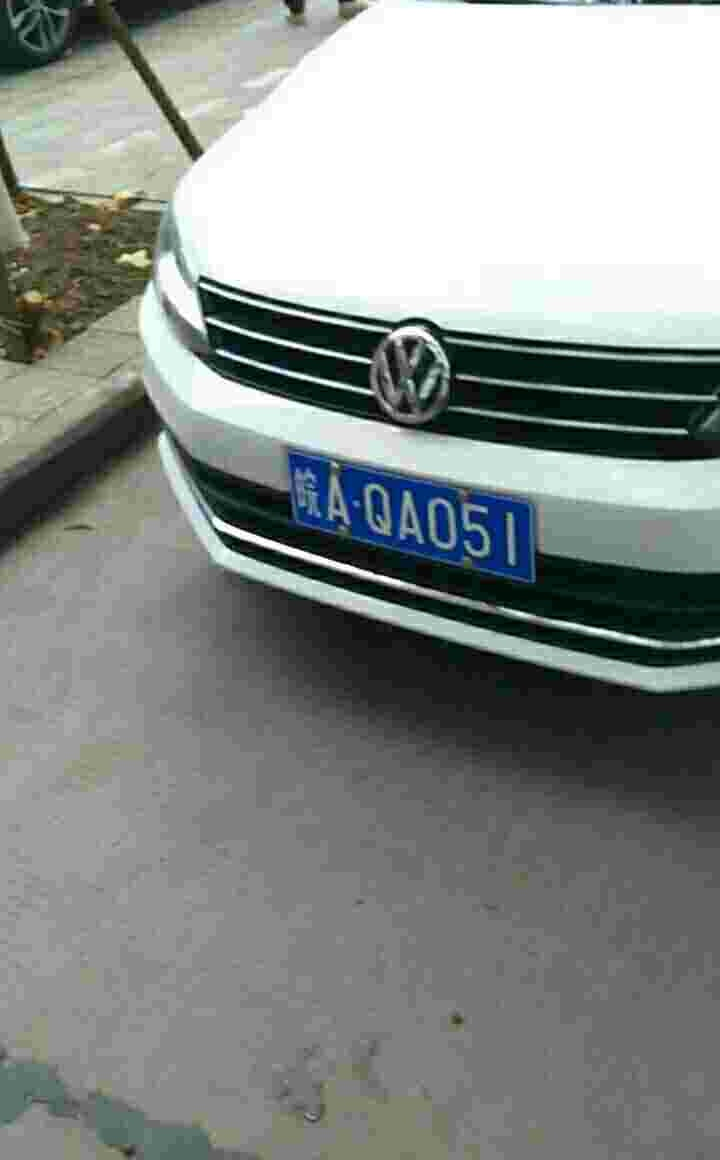license_plate: (284, 447, 539, 588)
